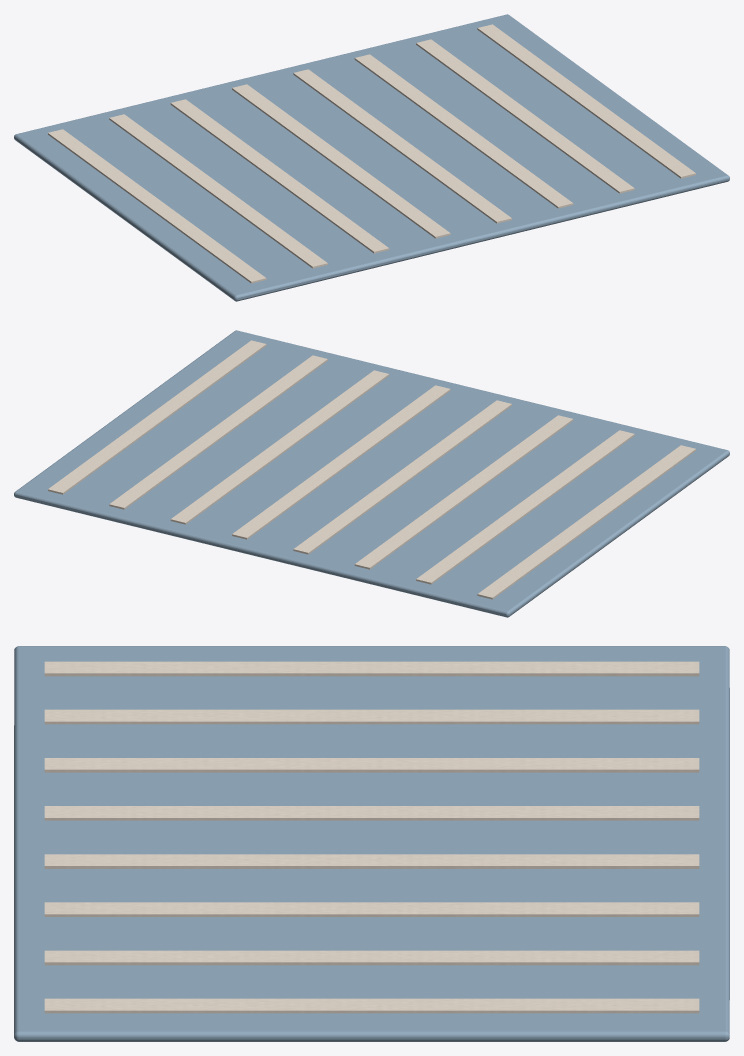
3 views of the same model, one above another, from view 1: azimuth 30°, elevation 25°; view 2: azimuth 150°, elevation 25°; view 3: azimuth 270°, elevation 25° (orthographic). The views are drawn at different scales.
Parts seen in each view (by area): view 1: rectangular_rug_1, rug_geometric_stripe_7, rug_geometric_stripe_4, rug_geometric_stripe_3, rug_geometric_stripe_5, rug_geometric_stripe_9, rug_geometric_stripe_2, rug_geometric_stripe_6, rug_geometric_stripe_8; view 2: rectangular_rug_1, rug_geometric_stripe_7, rug_geometric_stripe_4, rug_geometric_stripe_3, rug_geometric_stripe_5, rug_geometric_stripe_9, rug_geometric_stripe_2, rug_geometric_stripe_6, rug_geometric_stripe_8; view 3: rectangular_rug_1, rug_geometric_stripe_2, rug_geometric_stripe_3, rug_geometric_stripe_8, rug_geometric_stripe_9, rug_geometric_stripe_4, rug_geometric_stripe_5, rug_geometric_stripe_6, rug_geometric_stripe_7.
Boxes of the visible parts, bbox=[...] form: rectangular_rug_1: bbox=[14, 14, 729, 301]; rug_geometric_stripe_7: bbox=[354, 54, 573, 208]; rug_geometric_stripe_4: bbox=[170, 99, 389, 253]; rug_geometric_stripe_3: bbox=[109, 114, 327, 268]; rug_geometric_stripe_5: bbox=[232, 84, 450, 238]; rug_geometric_stripe_9: bbox=[477, 24, 695, 178]; rug_geometric_stripe_2: bbox=[48, 129, 266, 283]; rug_geometric_stripe_6: bbox=[293, 69, 511, 223]; rug_geometric_stripe_8: bbox=[416, 39, 634, 193]; rectangular_rug_1: bbox=[14, 330, 729, 617]; rug_geometric_stripe_7: bbox=[170, 370, 389, 524]; rug_geometric_stripe_4: bbox=[354, 415, 573, 569]; rug_geometric_stripe_3: bbox=[416, 430, 634, 584]; rug_geometric_stripe_5: bbox=[293, 400, 511, 554]; rug_geometric_stripe_9: bbox=[48, 340, 266, 494]; rug_geometric_stripe_2: bbox=[477, 445, 695, 599]; rug_geometric_stripe_6: bbox=[232, 385, 450, 539]; rug_geometric_stripe_8: bbox=[109, 355, 327, 509]; rectangular_rug_1: bbox=[14, 646, 729, 1041]; rug_geometric_stripe_2: bbox=[44, 661, 699, 676]; rug_geometric_stripe_3: bbox=[44, 709, 699, 724]; rug_geometric_stripe_8: bbox=[44, 950, 699, 965]; rug_geometric_stripe_9: bbox=[44, 998, 699, 1013]; rug_geometric_stripe_4: bbox=[44, 758, 699, 772]; rug_geometric_stripe_5: bbox=[44, 806, 699, 820]; rug_geometric_stripe_6: bbox=[44, 854, 699, 868]; rug_geometric_stripe_7: bbox=[44, 902, 699, 916].
Size of the model in its own units: 1.8 by 0.0279 by 1.4.
Materials: 2 (1 with a texture image).
